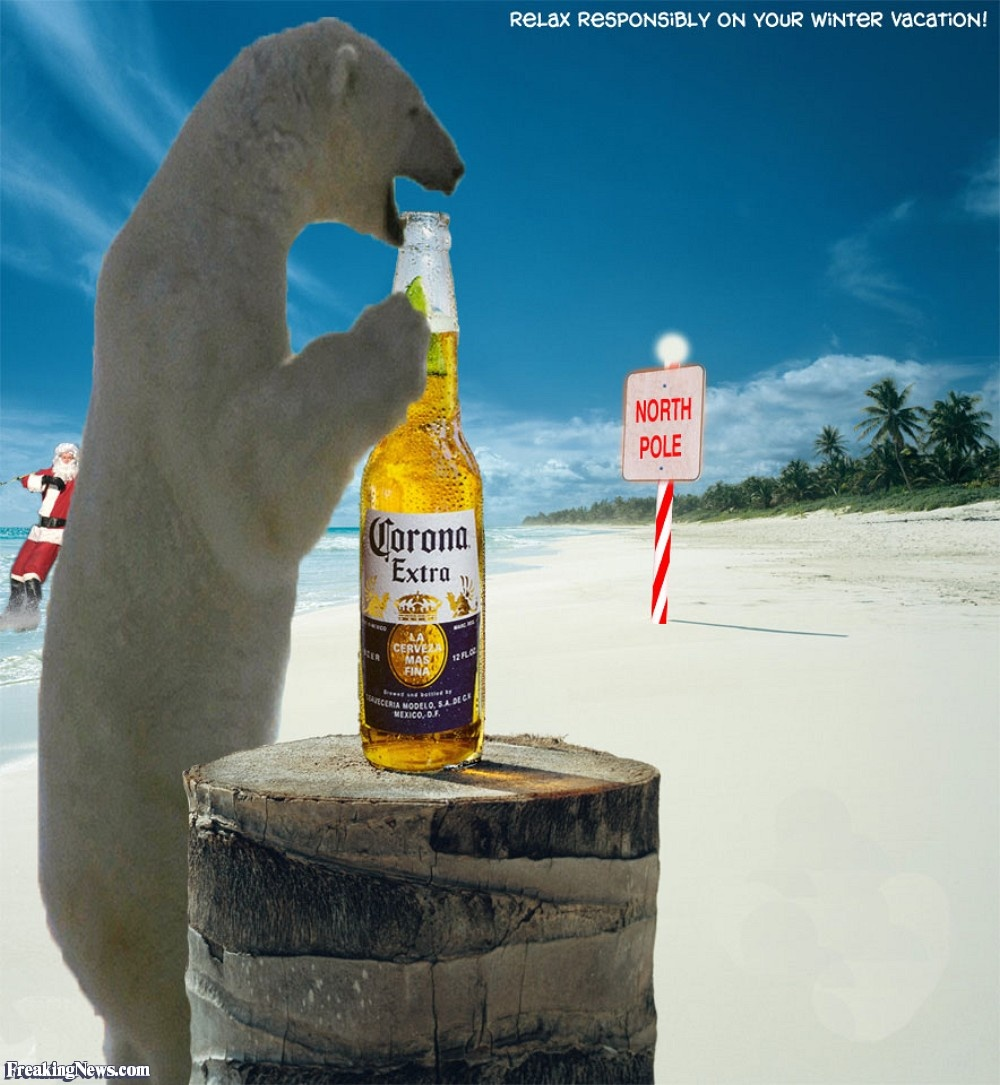beerBottle: (354, 182, 486, 767)
